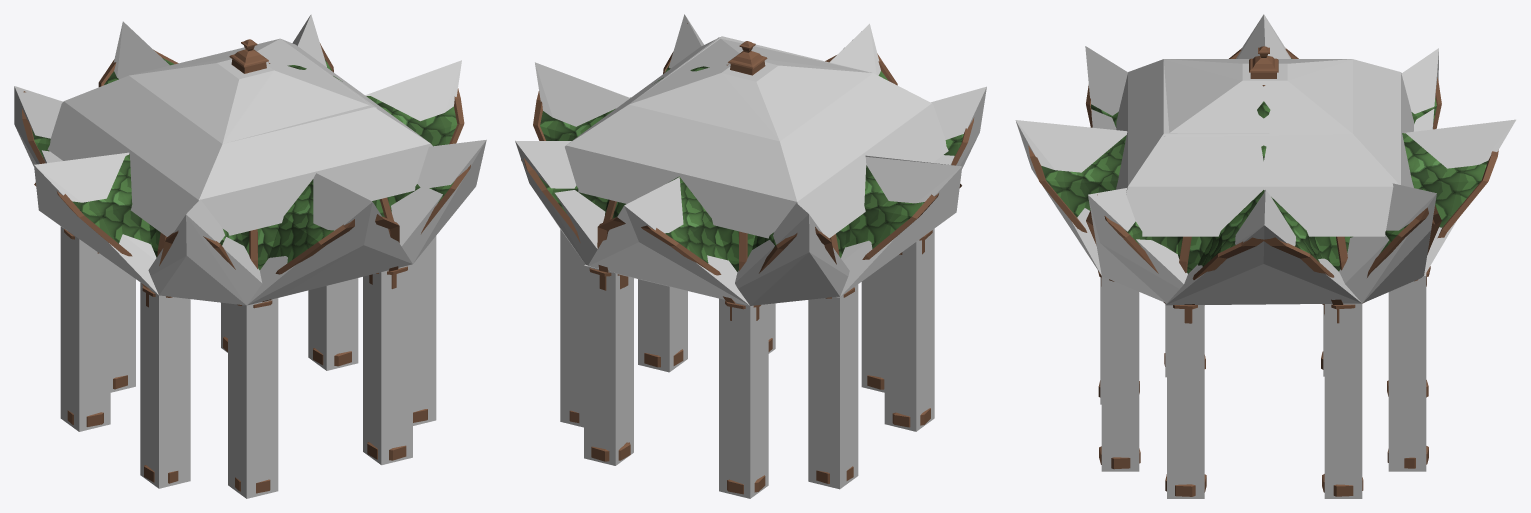
File: SM_Bld_Gazebo_01.fbx
The picture shows the model from 3 angles, left to right: view 1: azimuth 30°, elevation 25°; view 2: azimuth 150°, elevation 25°; view 3: azimuth 270°, elevation 25°; orthographic projection.
Parts seen in each view (by area): view 1: SM_Bld_Gazebo_01_ConvexHulls, SM_Bld_Gazebo_01; view 2: SM_Bld_Gazebo_01_ConvexHulls, SM_Bld_Gazebo_01; view 3: SM_Bld_Gazebo_01_ConvexHulls, SM_Bld_Gazebo_01.
Boxes of the visible parts, box(x1,y1,x2,y2) form: SM_Bld_Gazebo_01_ConvexHulls: box(14, 14, 486, 498); SM_Bld_Gazebo_01: box(22, 39, 470, 493); SM_Bld_Gazebo_01_ConvexHulls: box(515, 14, 986, 498); SM_Bld_Gazebo_01: box(521, 23, 974, 494); SM_Bld_Gazebo_01_ConvexHulls: box(1015, 14, 1515, 498); SM_Bld_Gazebo_01: box(1028, 46, 1498, 496).
Size of the model in its own units: 533 by 534 by 452.
Materials: 3 (2 with a texture image).
